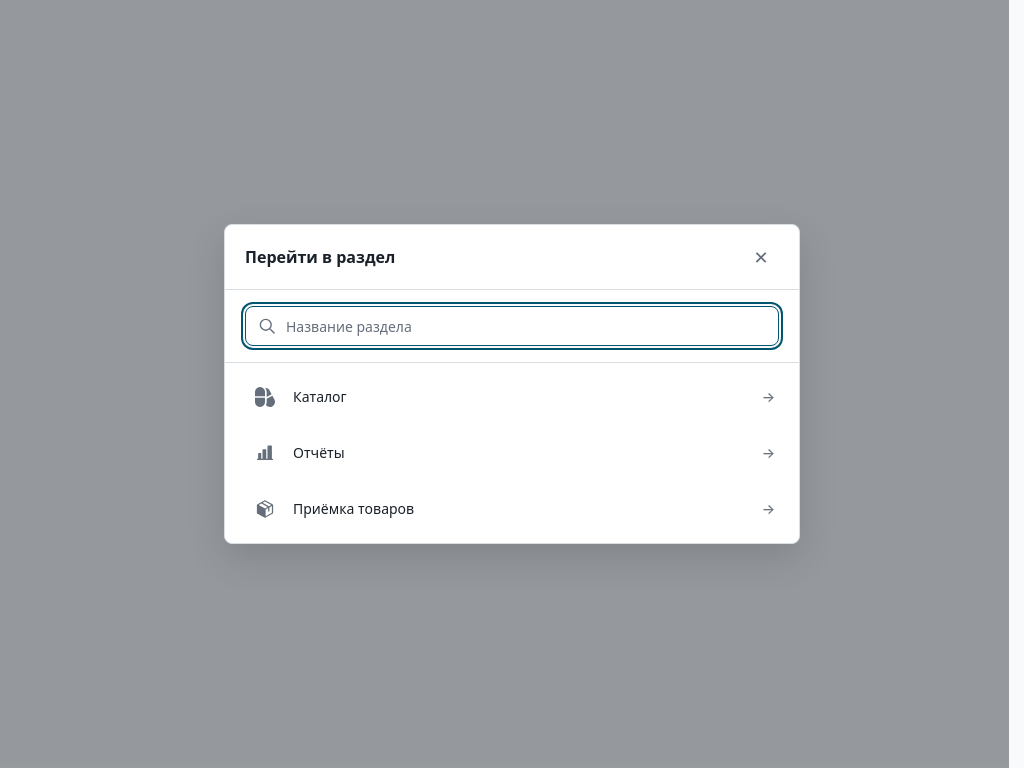
Scenario: SectionSearchDialog › matches a Russian query   ОТЧЕТ
In the search field named "Найти раздел": (512, 326) [245, 306, 779, 346], type "  ОТЧЕТ  "
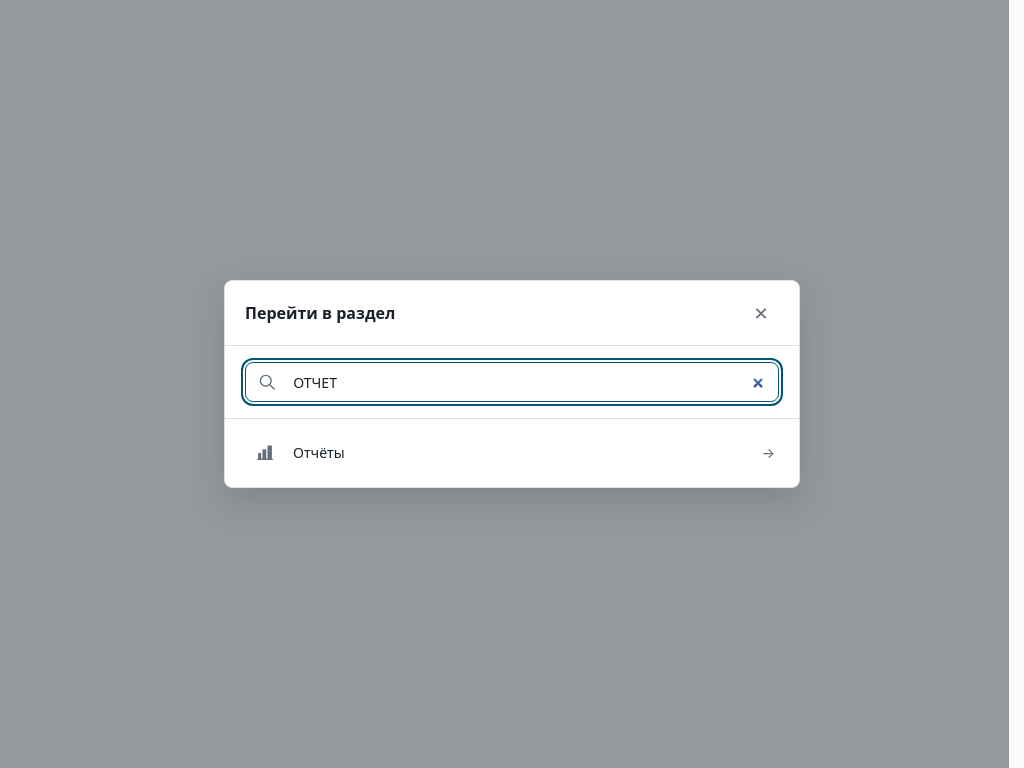
Check: the button "Отчёты →" is shown, box [237, 427, 787, 479]
Check: the button "Каталог" is gone
